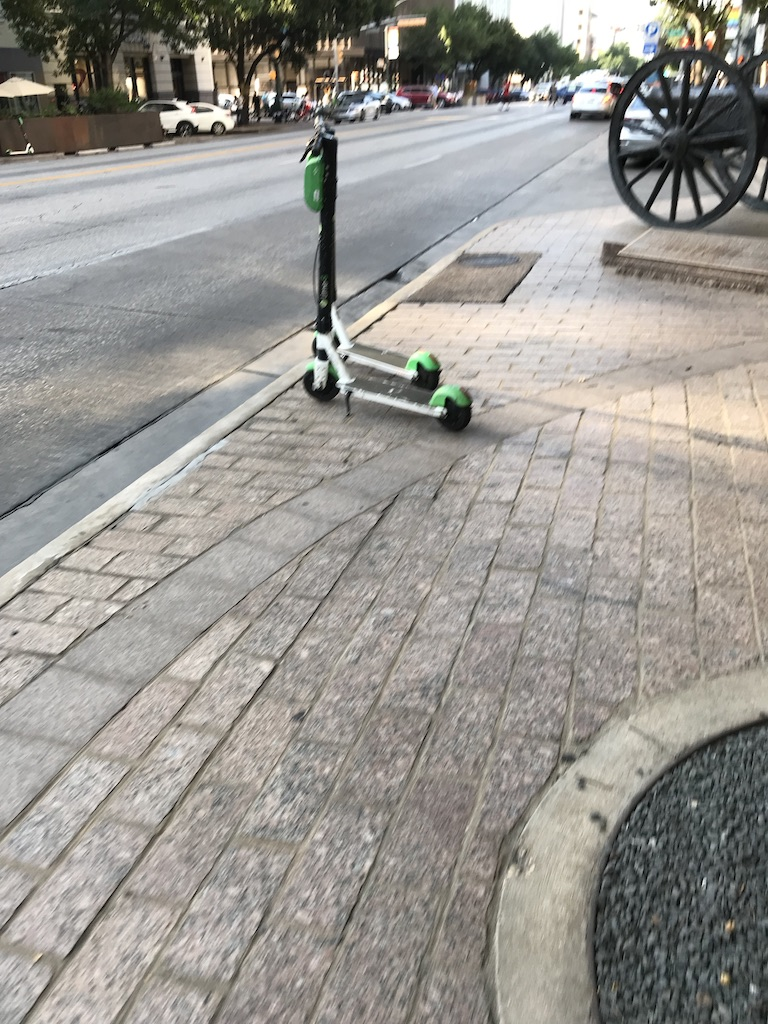scooter: (301, 120, 474, 432), (332, 303, 441, 390)
